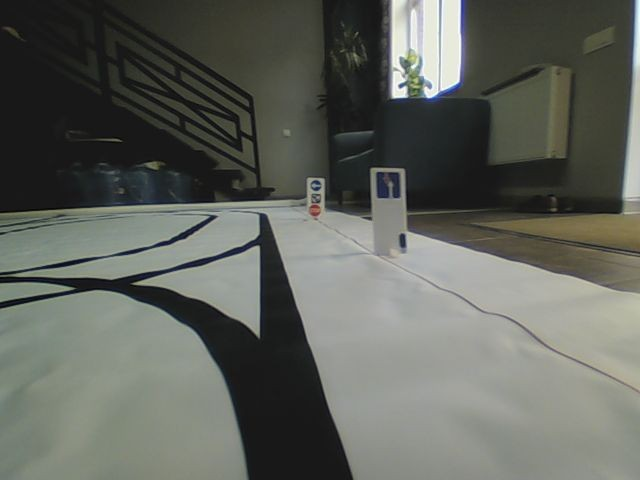priority_movement: (376, 171, 400, 198)
